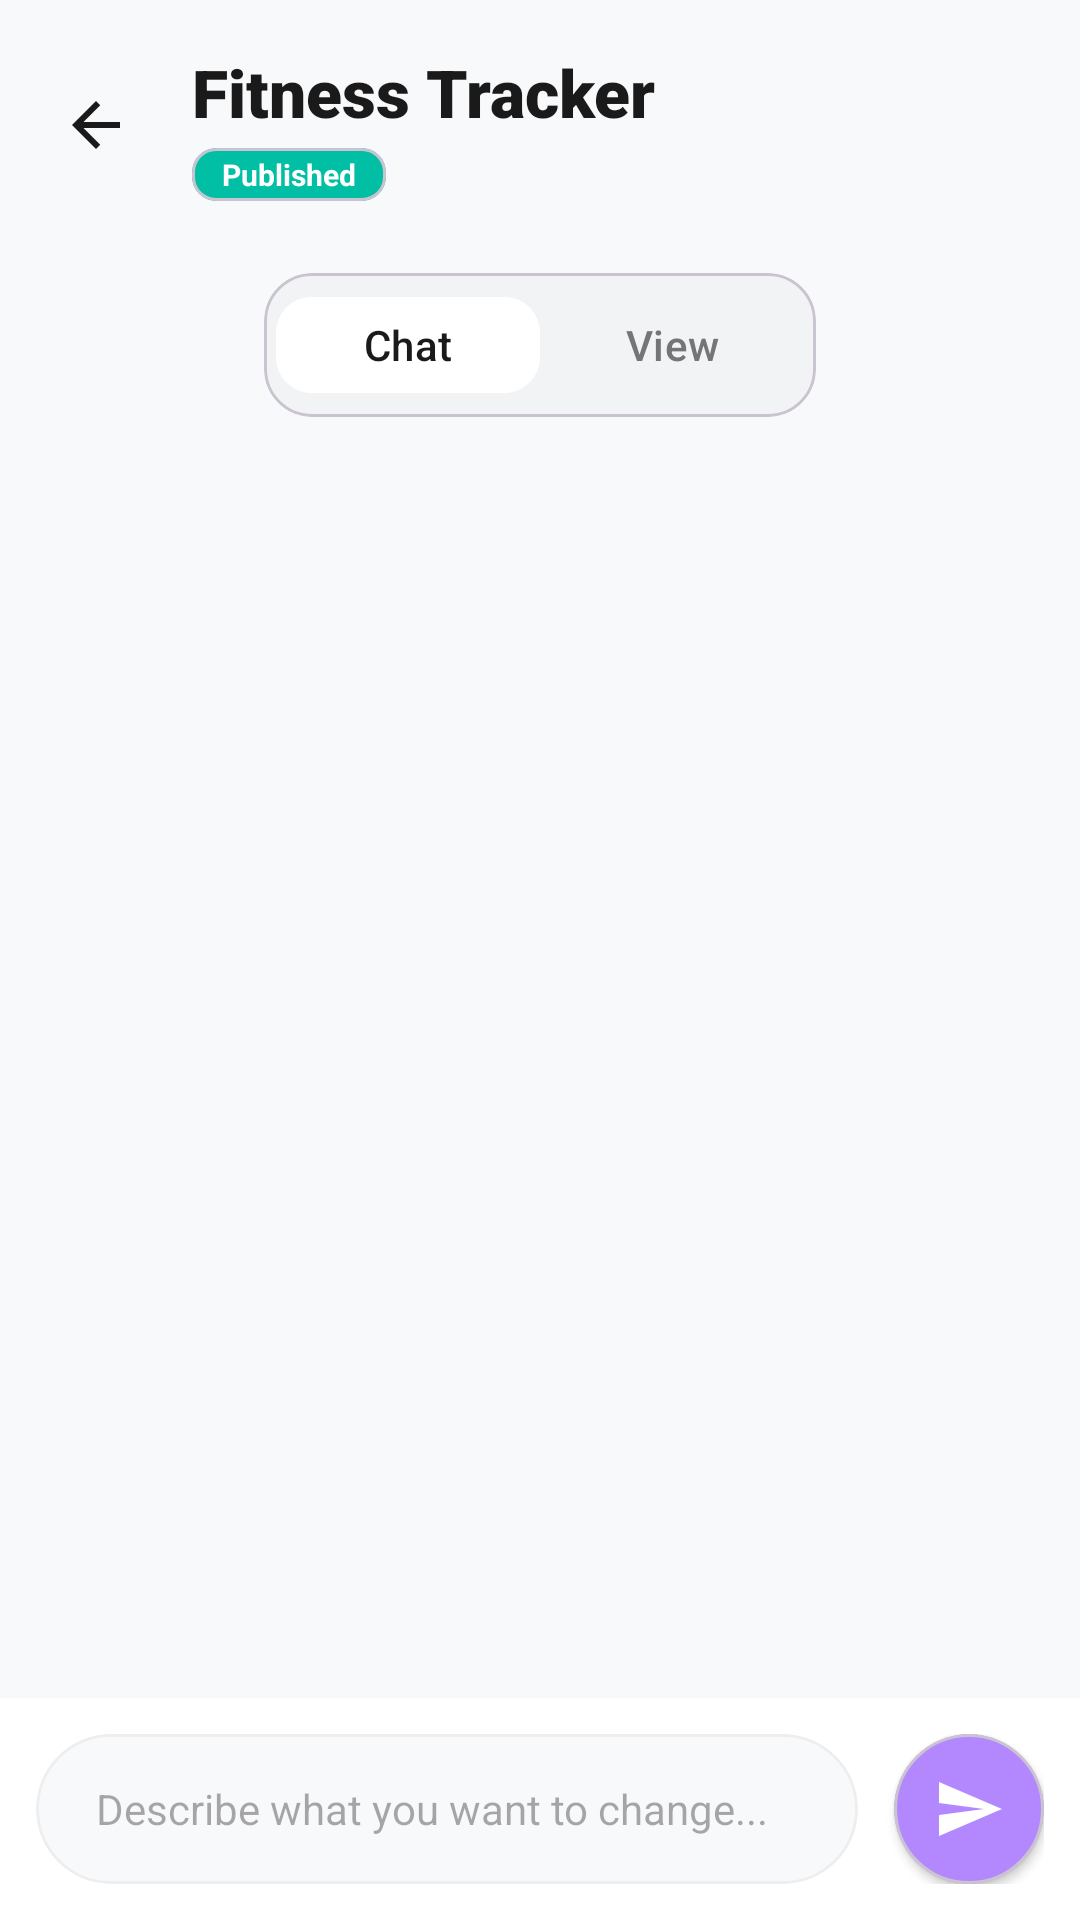

Screen size 1080w x 1920h. Icon name, then its box in pixels as (x1, y1, x2, y2):
back: (72, 101, 120, 149)
send: (939, 1782, 1001, 1836)
